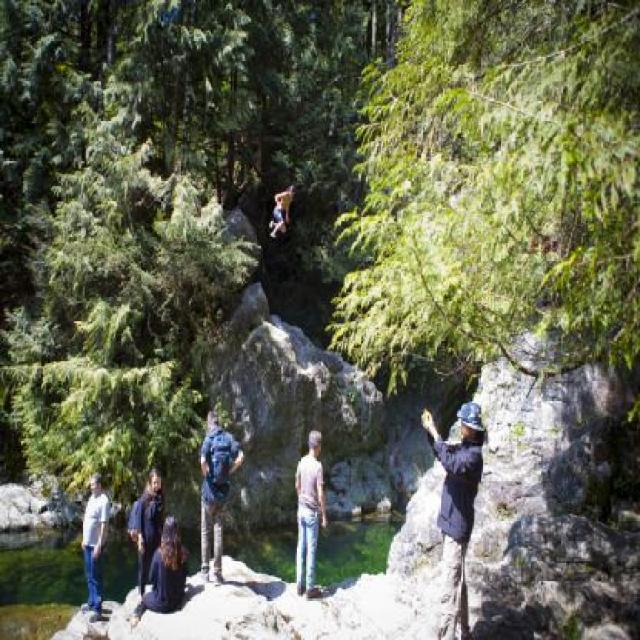Person: (417, 400, 491, 638), (199, 408, 247, 584), (131, 511, 189, 629), (289, 434, 329, 597), (83, 471, 114, 623), (136, 466, 167, 602), (268, 180, 297, 242)
